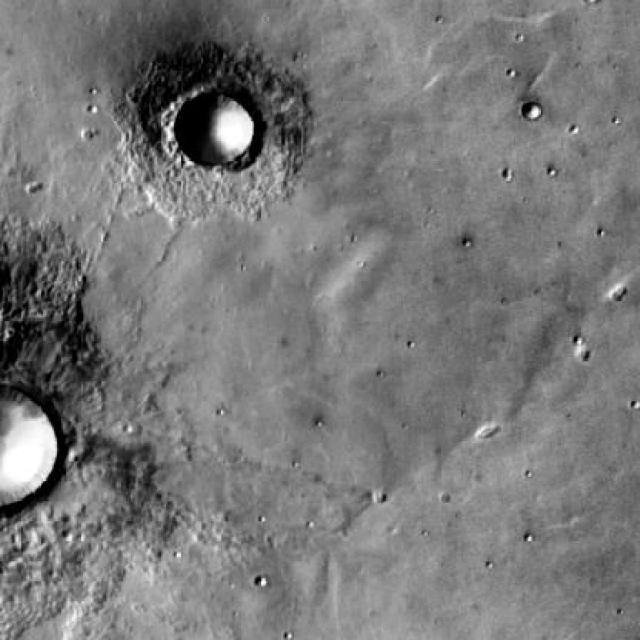crater: (0, 385, 57, 506), (177, 98, 261, 172), (524, 104, 542, 121)
